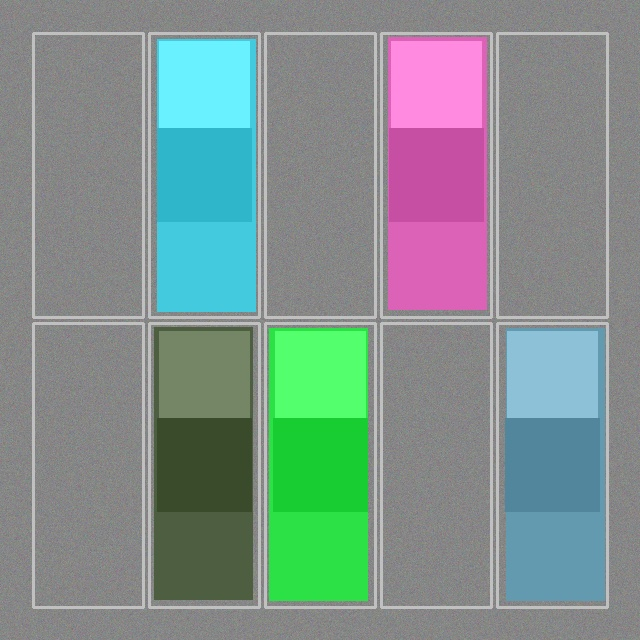space-empty: (35, 35, 141, 315), (267, 35, 373, 315), (499, 35, 605, 315), (35, 325, 141, 605), (383, 325, 489, 605)
space-occupied: (151, 35, 257, 315), (383, 35, 489, 315), (151, 325, 257, 605), (267, 325, 373, 605), (499, 325, 605, 605)
